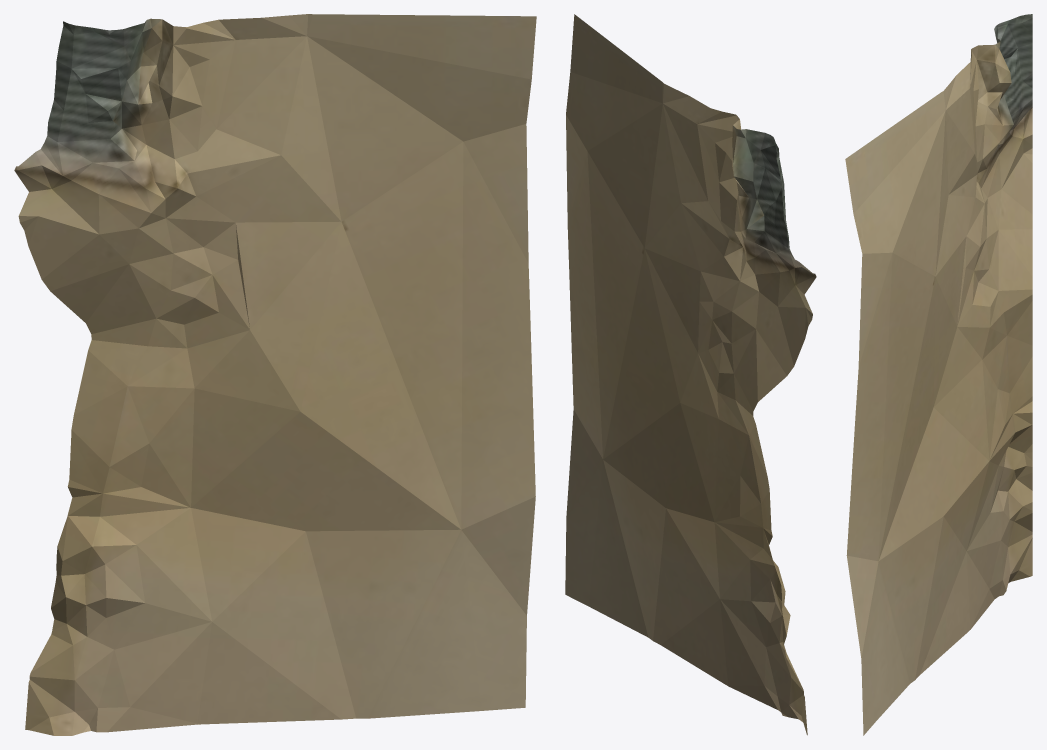
3 renders of one model, left to right at view 1: azimuth 30°, elevation 25°; view 2: azimuth 150°, elevation 25°; view 3: azimuth 270°, elevation 25°, orthographic. The views are drawn at different scales.
Bounding box in the file's own units: 2.05 × 3.35 × 0.9857.
2 materials, 2 textured.
